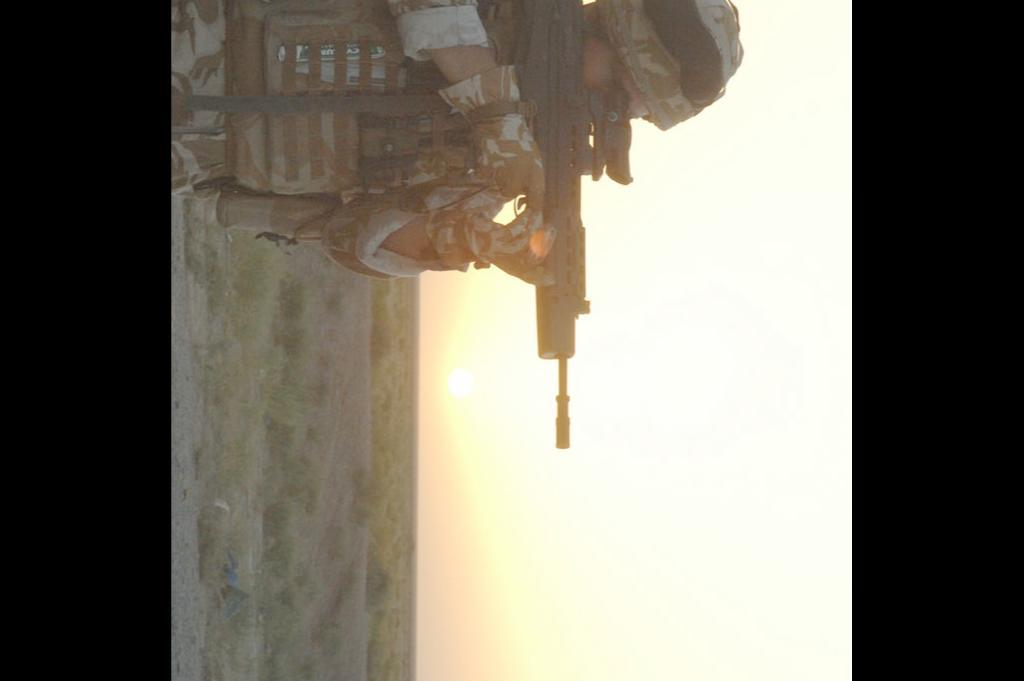gun: (457, 0, 592, 447)
